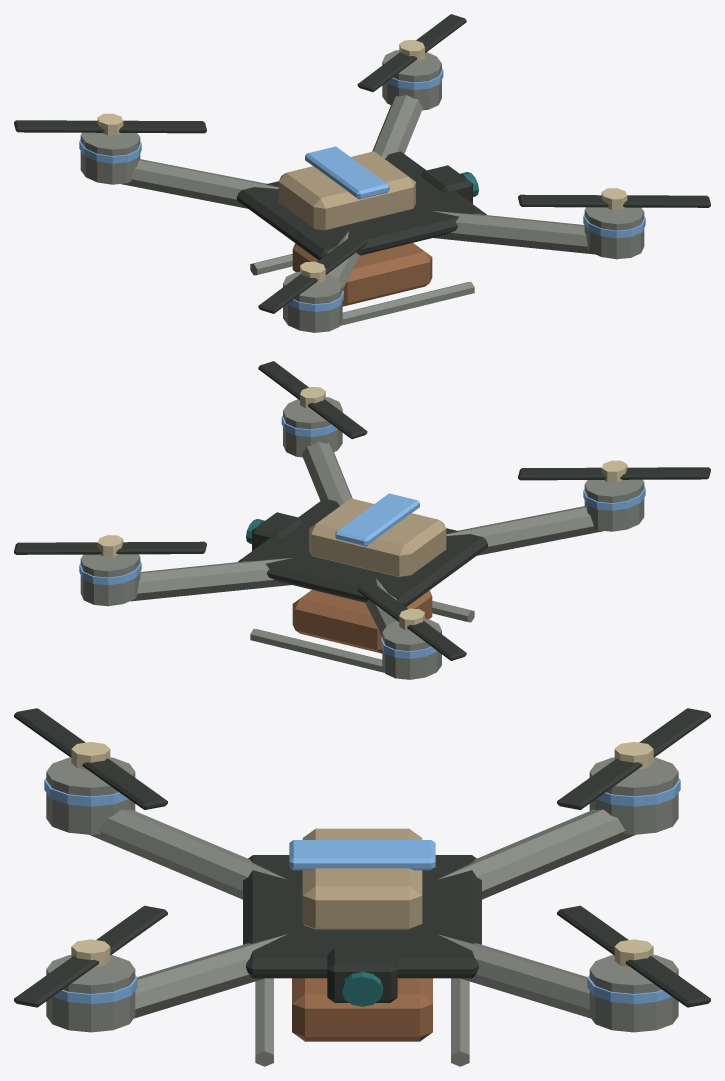
Rendered from fpv_drone.glb.
3 renders of one model, top to bottom at view 1: azimuth 30°, elevation 25°; view 2: azimuth 150°, elevation 25°; view 3: azimuth 270°, elevation 25°, orthographic. The views are drawn at different scales.
Visible parts, largest first — view 1: fpv_drone; view 2: fpv_drone; view 3: fpv_drone.
Part boxes in pixels (x1,y1,x2,y2): fpv_drone: (14,14,710,332); fpv_drone: (14,361,710,679); fpv_drone: (14,708,710,1066).
Bounding box in the file's own units: 0.7724 × 0.21 × 0.7724.
